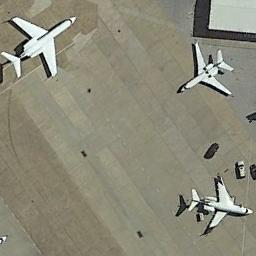Airplane: (0, 8, 84, 88), (170, 34, 234, 104), (185, 173, 255, 234)
